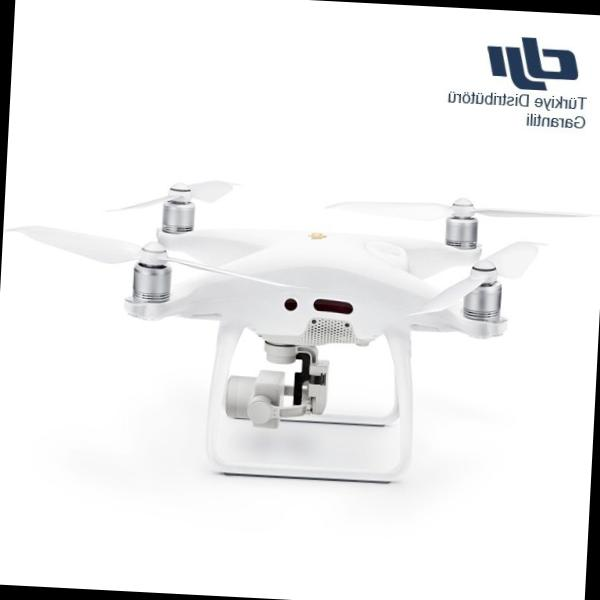drone: (8, 148, 554, 400)
